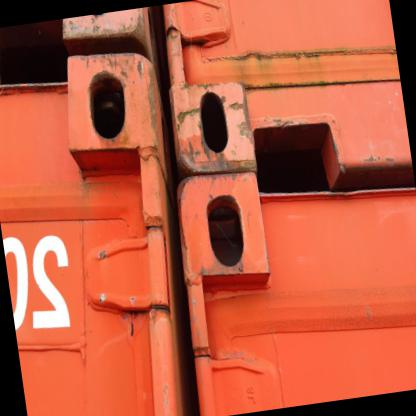CornerCasting: (169, 166, 276, 303), (66, 40, 165, 182), (168, 69, 257, 176)
